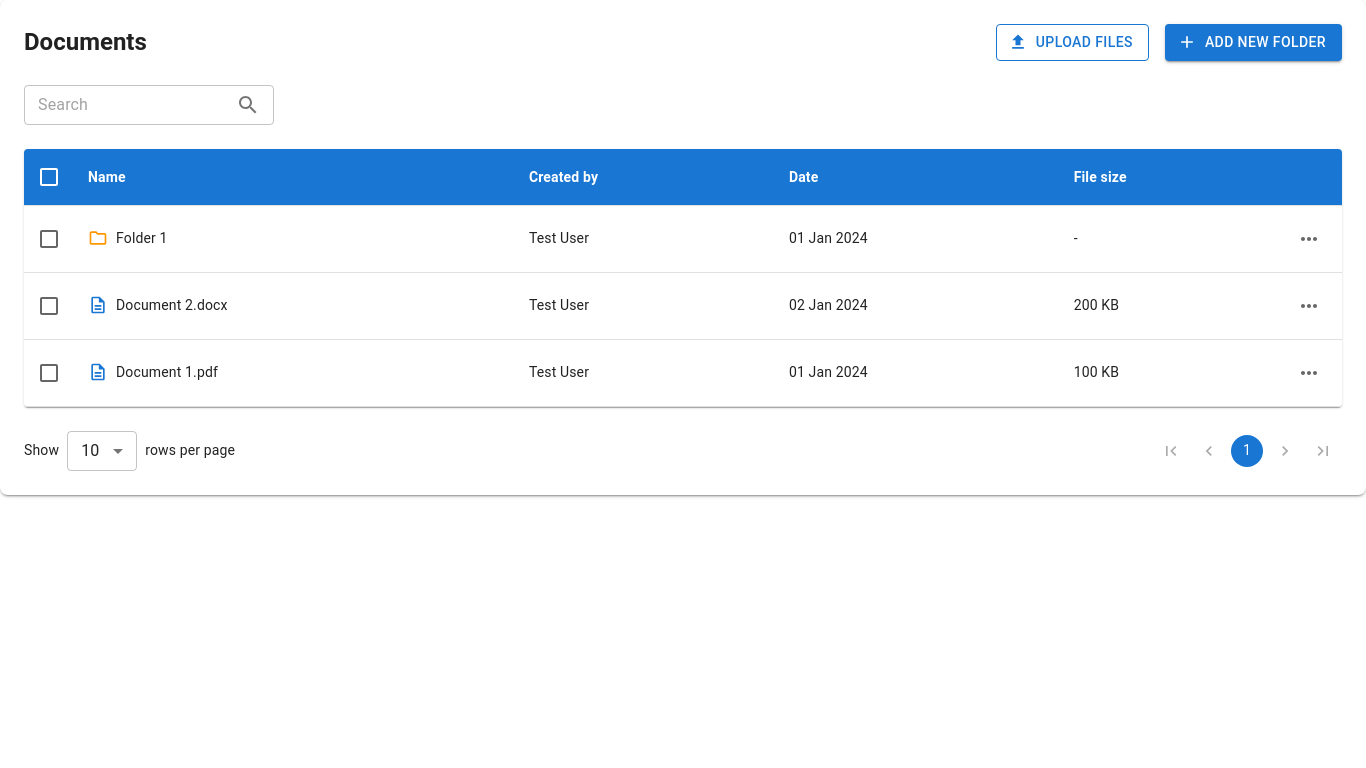
Test: DocumentListing › should open upload modal when upload button is clicked
Click the button "Upload files" at coordinates (1072, 42), box x1=996 y1=24 x2=1149 y2=60
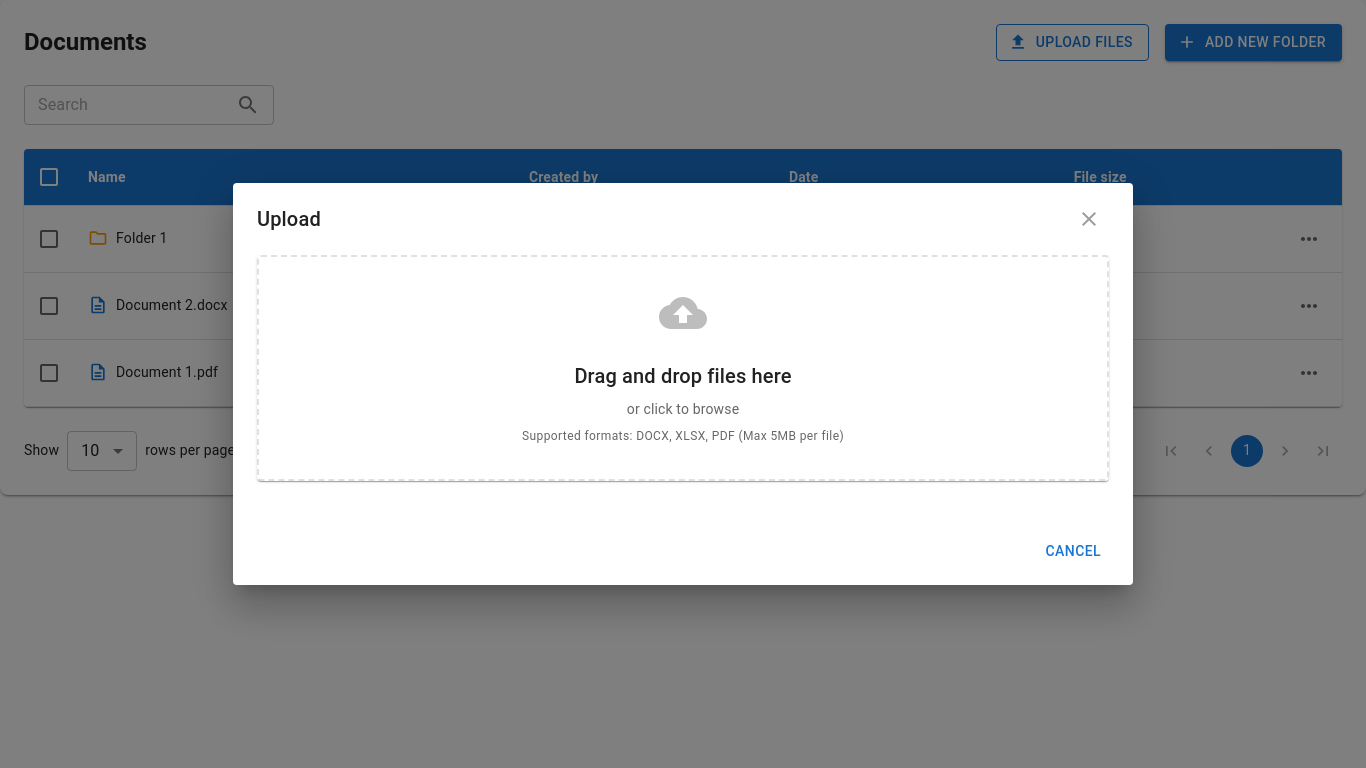
Expected: the element with test id "upload-modal" is shown
